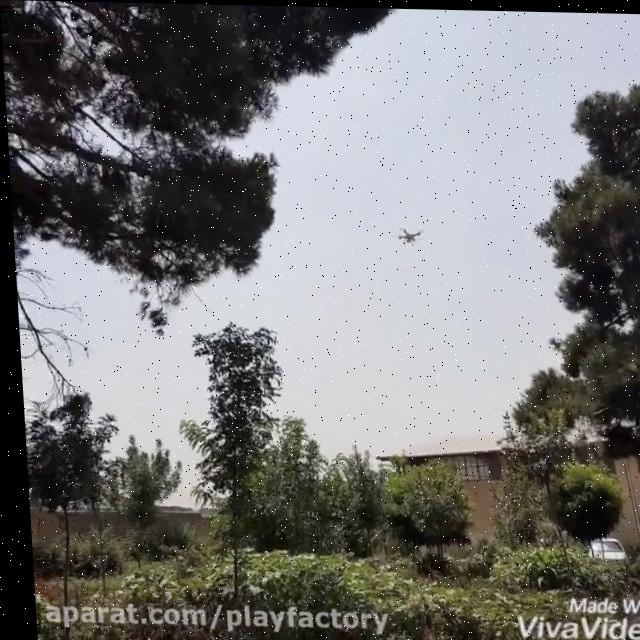drone: (389, 222, 422, 246)
